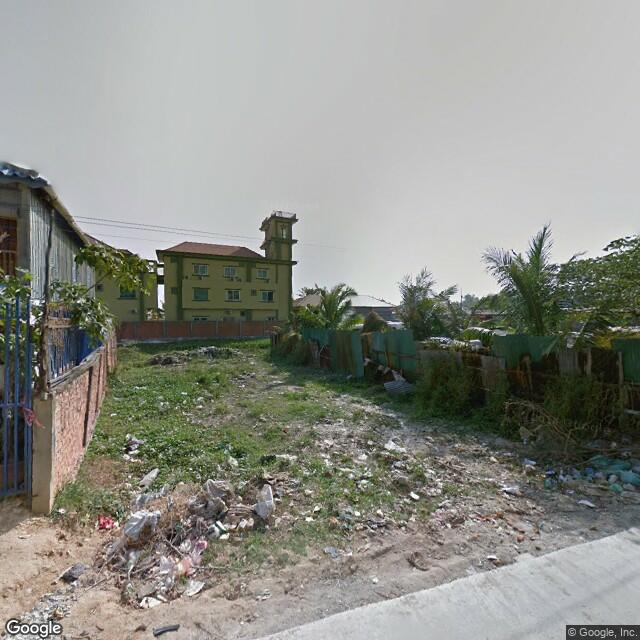litter: (83, 502, 232, 621), (242, 475, 288, 524), (369, 429, 416, 463), (117, 425, 149, 469), (390, 483, 439, 508), (316, 542, 365, 567), (267, 444, 309, 469), (176, 388, 214, 415), (494, 477, 532, 502), (511, 449, 547, 472), (561, 461, 583, 489), (574, 493, 600, 514), (601, 469, 626, 490), (478, 548, 503, 568)
